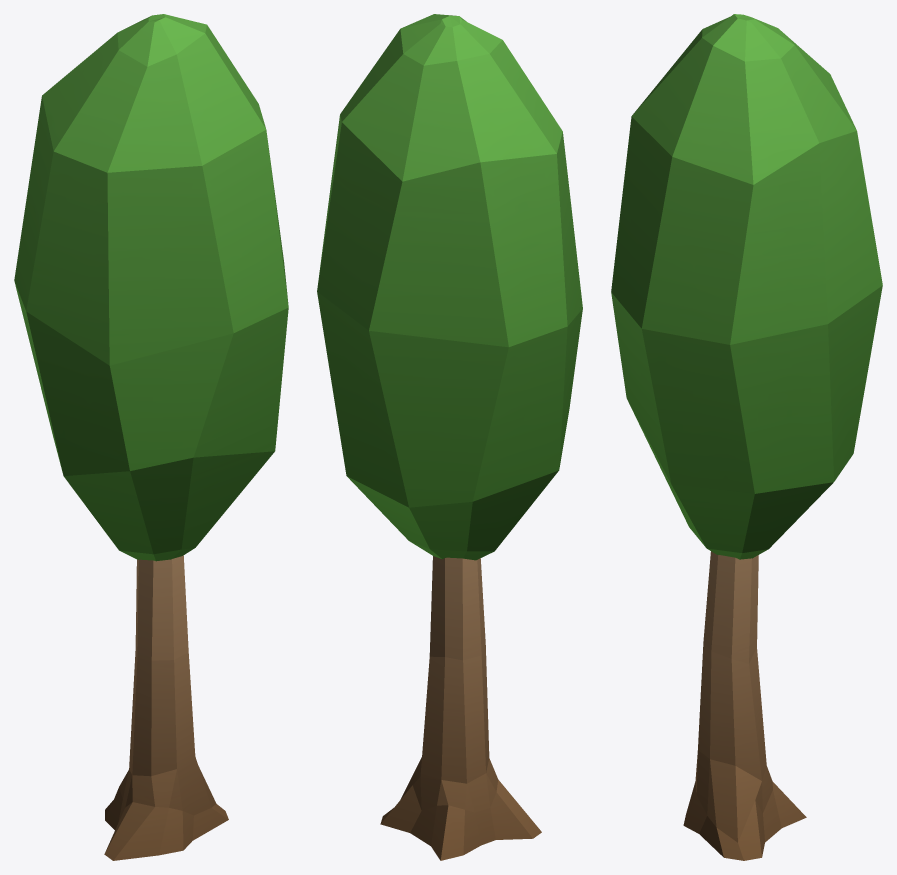
The model's file is Tree_Poplar_Green_01.fbx.
The picture shows the model from 3 angles, left to right: view 1: azimuth 30°, elevation 25°; view 2: azimuth 150°, elevation 25°; view 3: azimuth 270°, elevation 25°; orthographic projection.
Parts seen in each view (by area): view 1: Tree_Poplar_Green; view 2: Tree_Poplar_Green; view 3: Tree_Poplar_Green.
Boxes of the visible parts, x1,y1,x2,y2 form: Tree_Poplar_Green: [14, 14, 288, 860]; Tree_Poplar_Green: [317, 14, 582, 860]; Tree_Poplar_Green: [611, 14, 882, 860].
Bounding box in the file's own units: 2.95 × 9.4 × 2.85.
